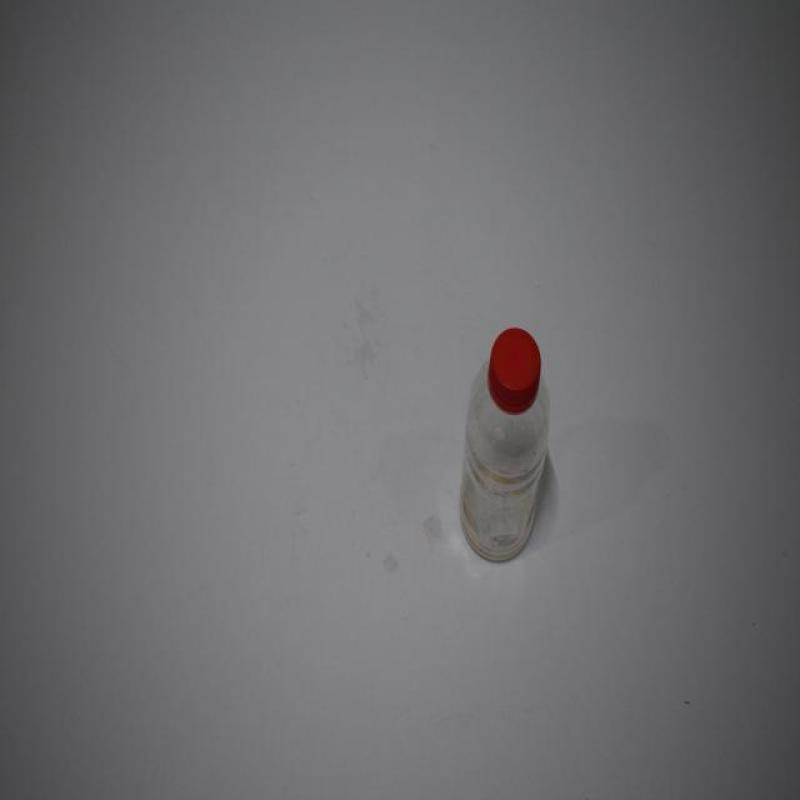botella: (460, 327, 550, 565)
